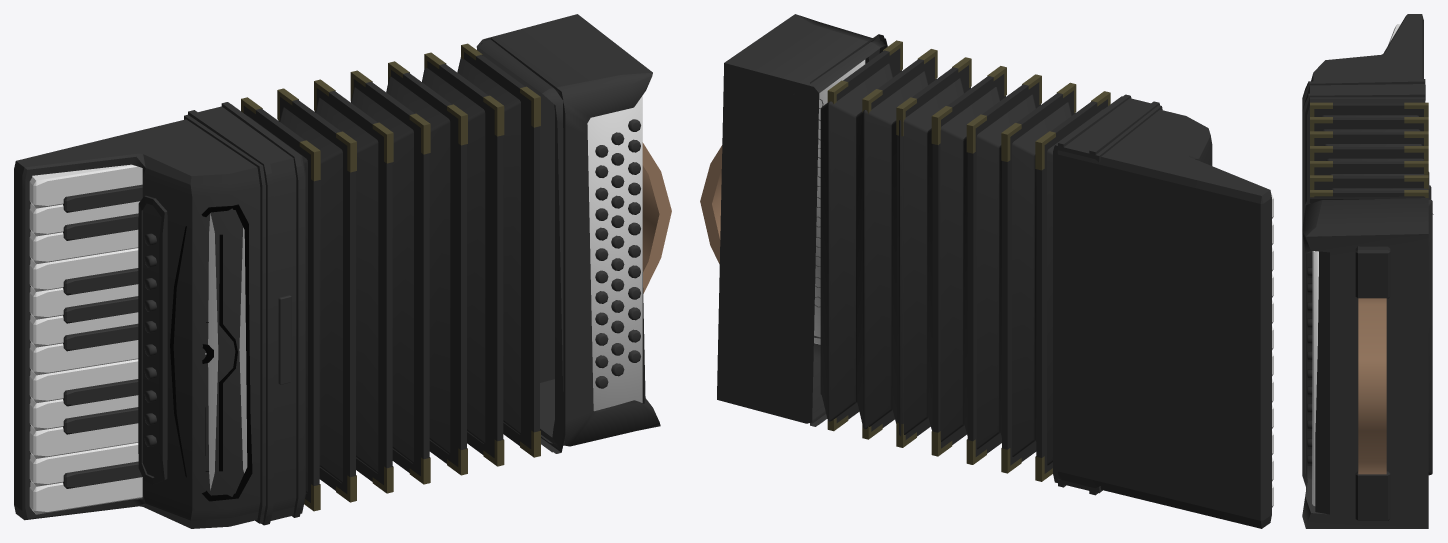
The model's file is newaccordion.fbx.
3 renders of one model, left to right at view 1: azimuth 30°, elevation 25°; view 2: azimuth 150°, elevation 25°; view 3: azimuth 270°, elevation 25°, orthographic. The views are drawn at different scales.
Visible parts, largest first — view 1: fole, pCube1, pCube83 (×7), pCube40, pCube2, pCube41, pCube85 (×7), pCube29, pCube82, pCube25, pCube3, pCube78 (+22 smaller); view 2: pCube1, fole, pCube40, pCube83 (×7), pCube85 (×7), pCube2, pCube78, pCube41; view 3: pCube40, pCube83 (×7), pCube78, pCube1, pCube2, fole, pCube85 (×7), pCube79, pCube80, pCube82, pCube41.
Boxes of the visible parts, bbox=[...] form: fole: bbox=[248, 57, 520, 493]; pCube1: bbox=[14, 119, 260, 528]; pCube83 (×7): bbox=[243, 52, 539, 502]; pCube40: bbox=[476, 14, 660, 446]; pCube2: bbox=[184, 102, 305, 525]; pCube41: bbox=[587, 96, 642, 411]; pCube85 (×7): bbox=[241, 43, 540, 511]; pCube29: bbox=[138, 195, 167, 484]; pCube82: bbox=[479, 37, 565, 453]; pCube25: bbox=[208, 213, 247, 490]; pCube3: bbox=[29, 164, 142, 208]; pCube78: bbox=[642, 142, 671, 293]; pCube1: bbox=[1057, 109, 1271, 528]; fole: bbox=[793, 63, 1103, 465]; pCube40: bbox=[717, 14, 885, 423]; pCube83 (×7): bbox=[836, 48, 1107, 473]; pCube85 (×7): bbox=[827, 40, 1110, 481]; pCube2: bbox=[1053, 94, 1162, 495]; pCube78: bbox=[700, 145, 722, 263]; pCube41: bbox=[814, 59, 865, 344]; pCube40: bbox=[1302, 198, 1428, 528]; pCube83 (×7): bbox=[1314, 103, 1423, 197]; pCube78: bbox=[1358, 298, 1386, 474]; pCube1: bbox=[1311, 14, 1423, 81]; pCube2: bbox=[1302, 79, 1425, 213]; fole: bbox=[1322, 115, 1433, 475]; pCube85 (×7): bbox=[1310, 102, 1428, 197]; pCube79: bbox=[1355, 246, 1390, 298]; pCube80: bbox=[1355, 471, 1390, 520]; pCube82: bbox=[1302, 196, 1425, 486]; pCube41: bbox=[1312, 251, 1318, 505].
Bounding box in the file's own units: 8.35 × 4.69 × 1.89.
